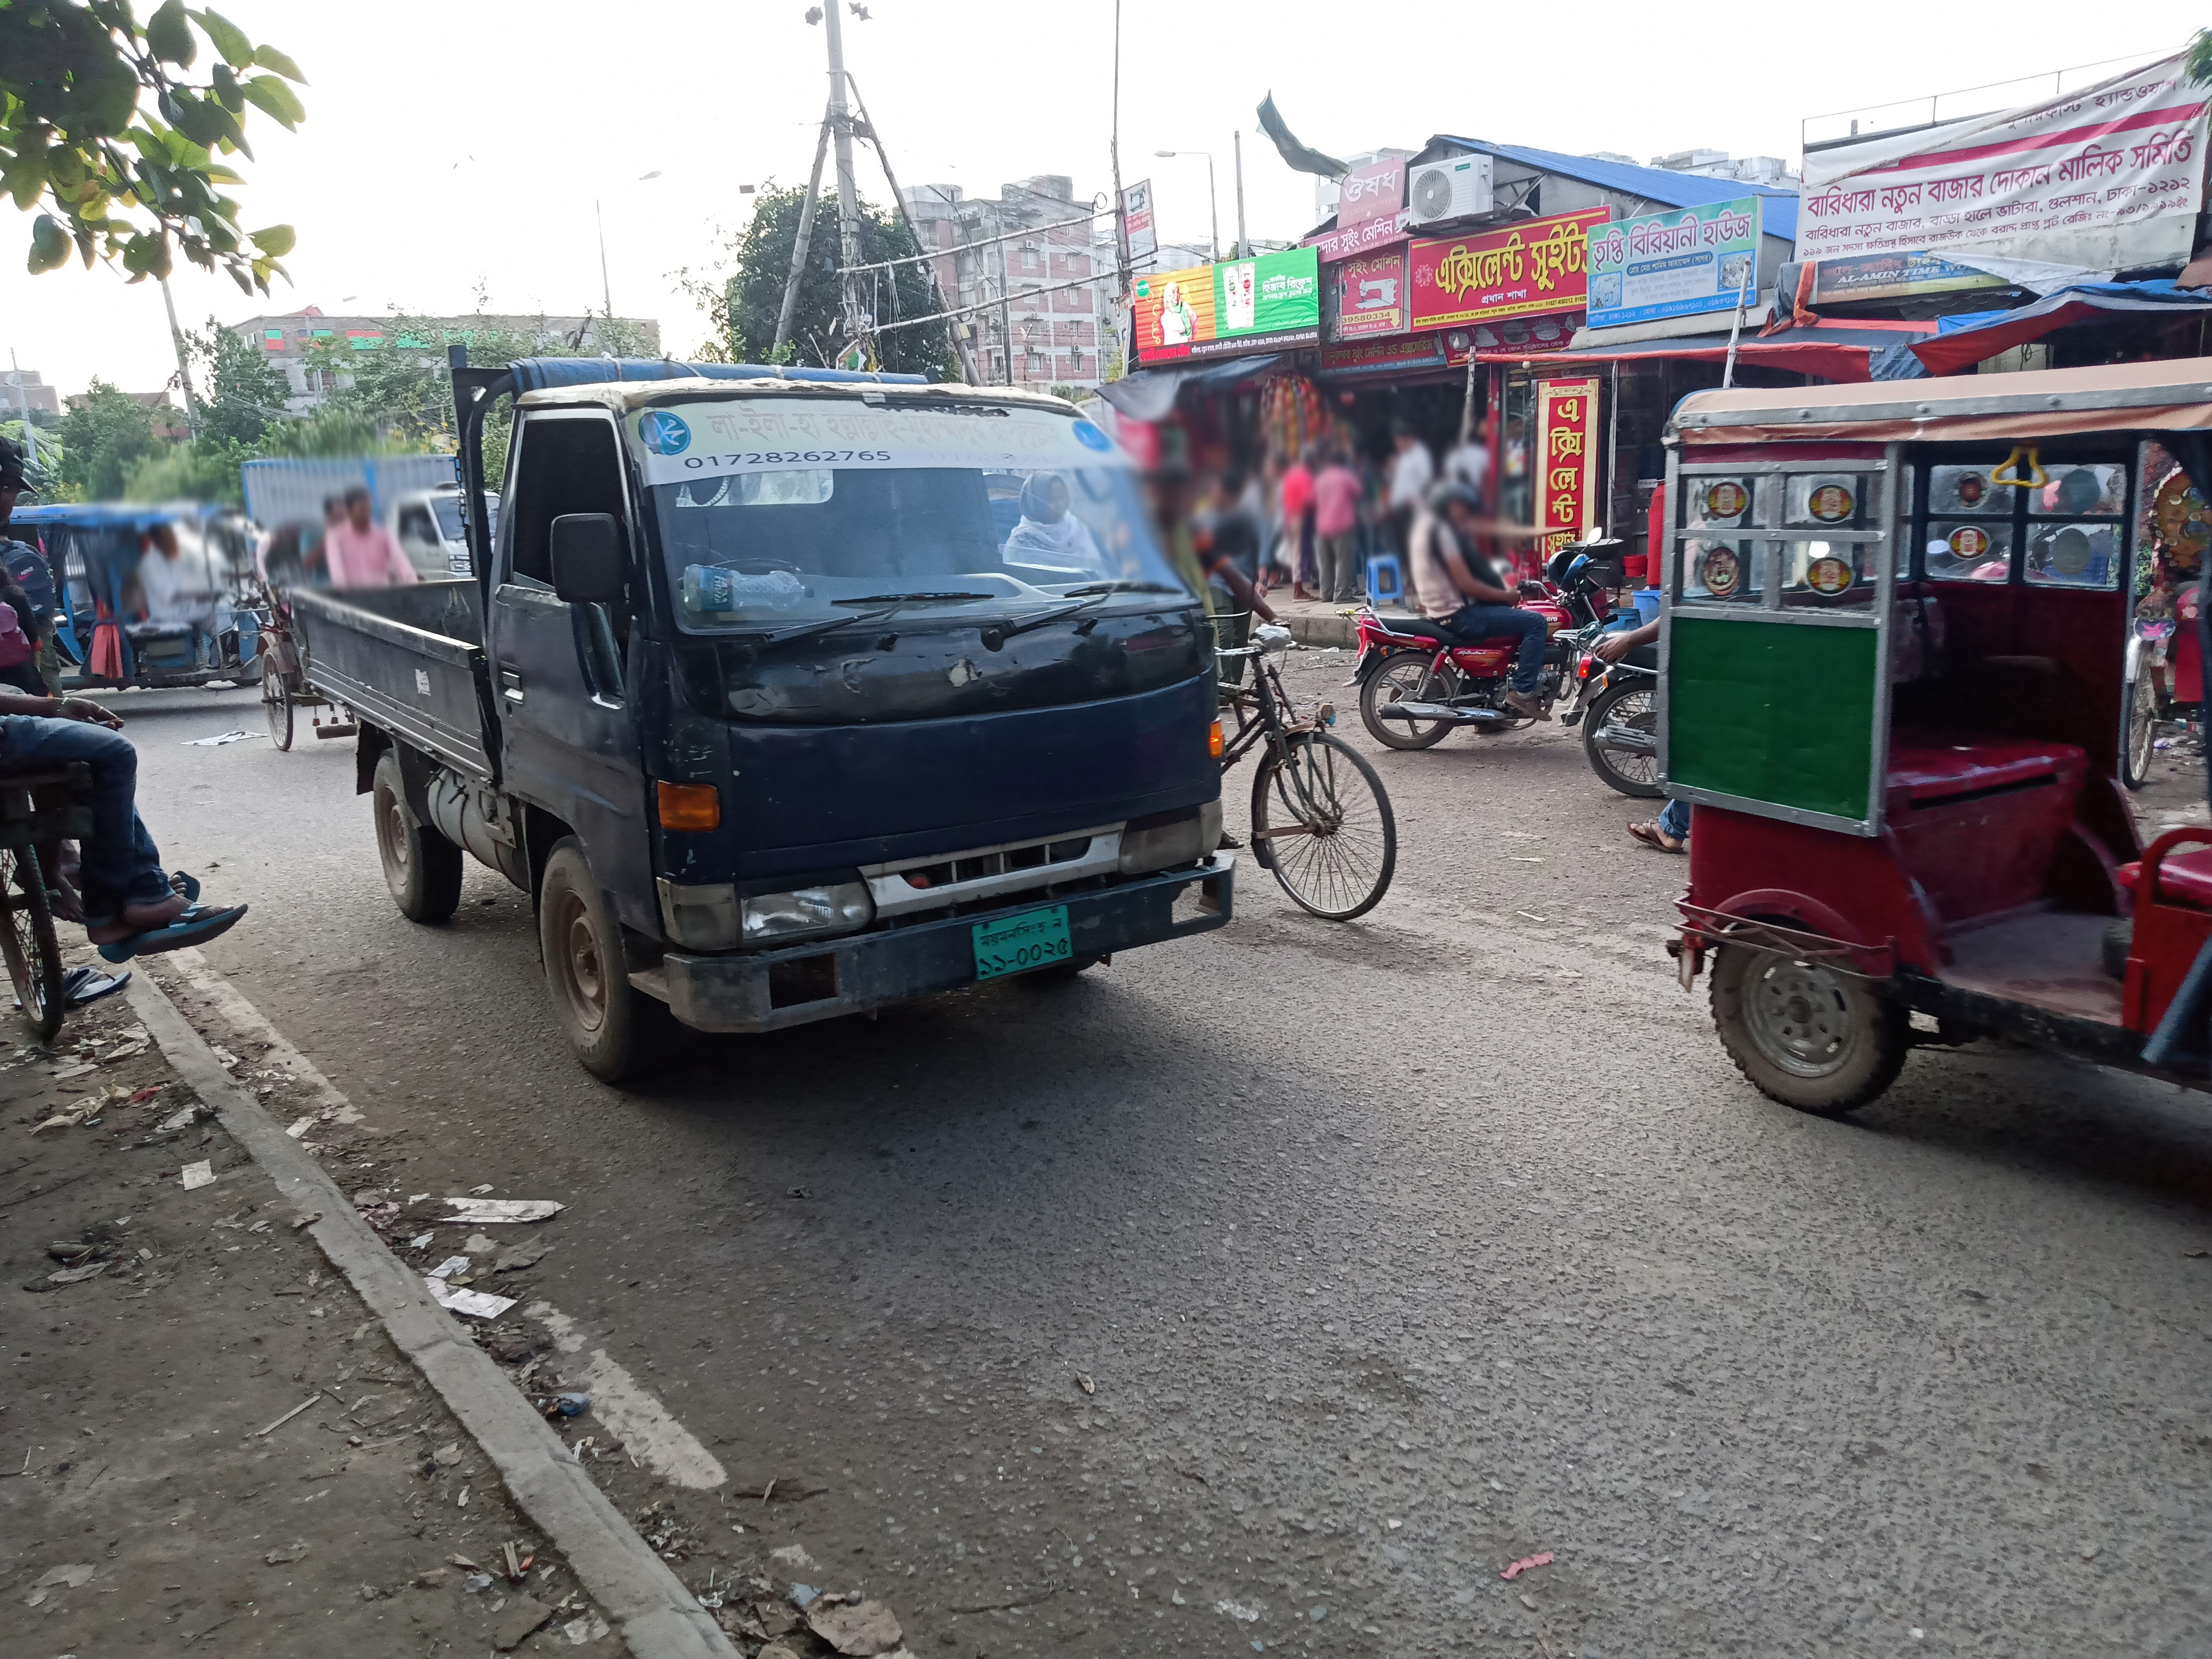bike: (1353, 545, 1635, 760), (1559, 613, 1663, 803)
easybike: (1649, 364, 2212, 1119), (2, 497, 277, 697)
rickshaw: (247, 509, 333, 748)
truck: (277, 349, 1247, 1094), (232, 448, 498, 577)
